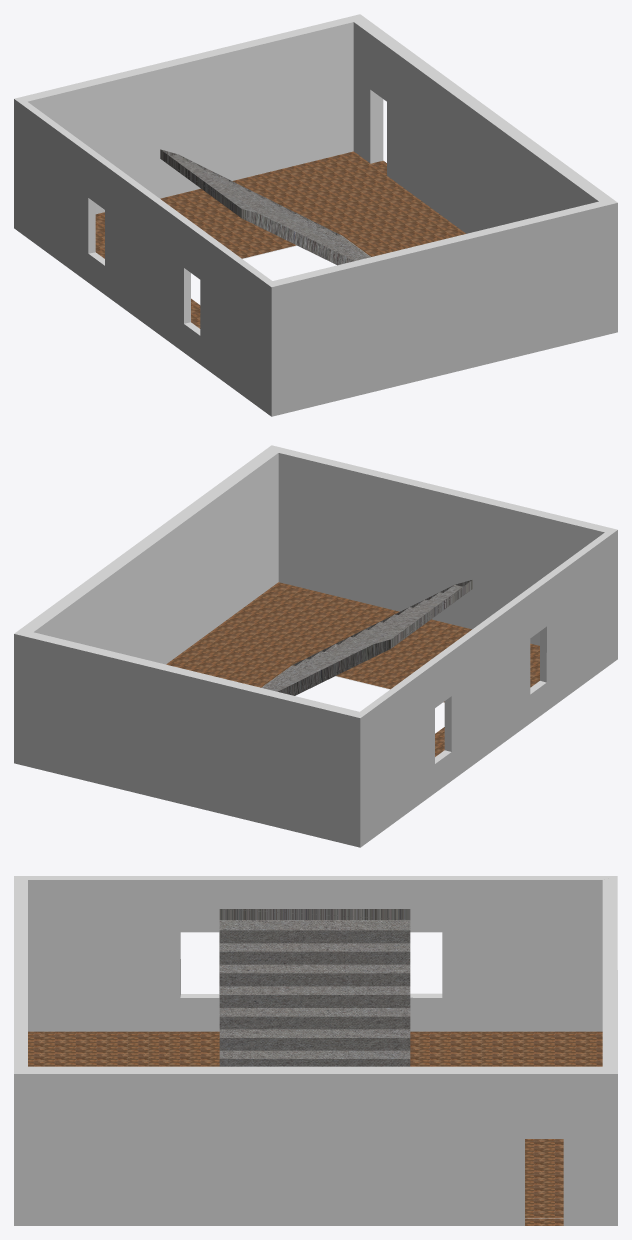
The model's file is Stairwell2-4R.fbx.
The picture shows the model from 3 angles, top to bottom: view 1: azimuth 30°, elevation 25°; view 2: azimuth 150°, elevation 25°; view 3: azimuth 270°, elevation 25°; orthographic projection. The views are drawn at different scales.
Parts seen in each view (by area): view 1: Classroom 1.204; view 2: Classroom 1.204; view 3: Classroom 1.204.
Part boxes in pixels (box(x1,y1,x2,y2)): Classroom 1.204: box(14, 14, 617, 416); Classroom 1.204: box(14, 445, 617, 847); Classroom 1.204: box(14, 876, 617, 1225).
Bounding box in the file's own units: 1907 × 687 × 2457.
